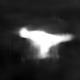plane: (17, 25, 76, 63)
